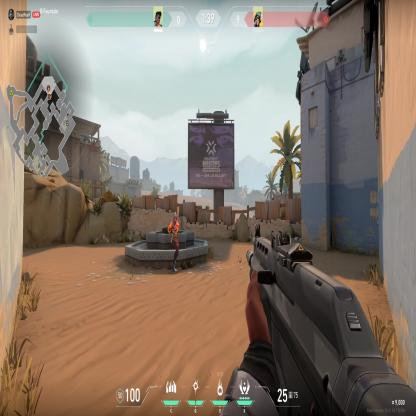enemy: (167, 210, 180, 274)
